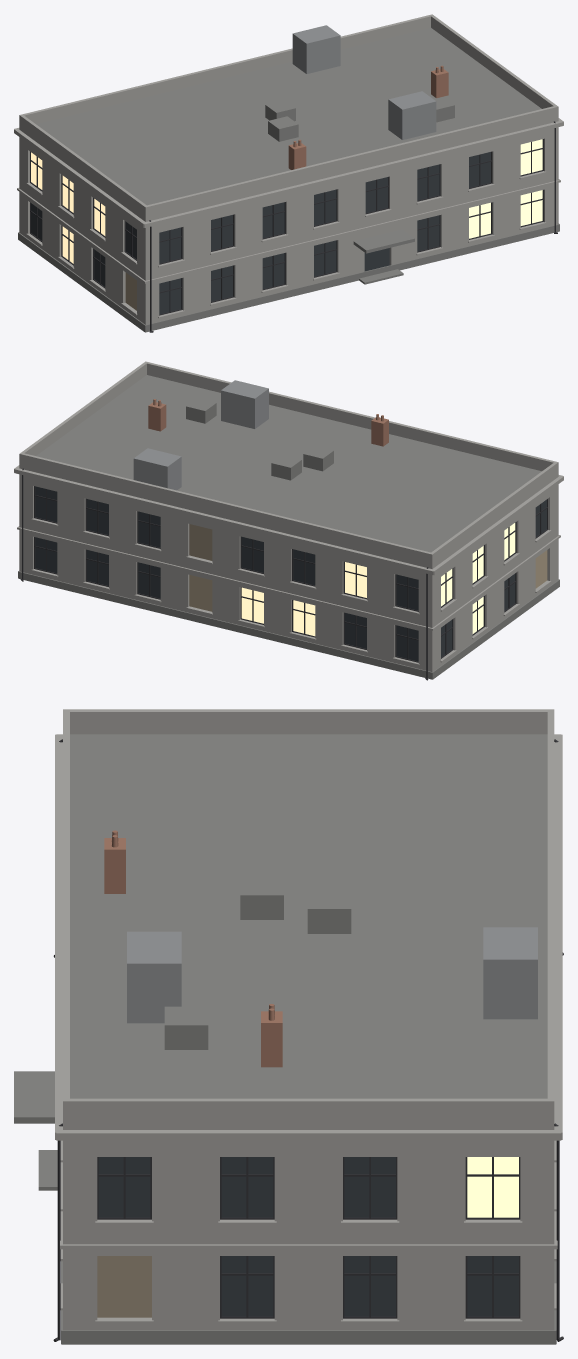
Rendered from community_centre.glb.
The picture shows the model from 3 angles, top to bottom: view 1: azimuth 30°, elevation 25°; view 2: azimuth 150°, elevation 25°; view 3: azimuth 270°, elevation 25°; orthographic projection. The views are drawn at different scales.
Visible parts, largest first — view 1: community_centre; view 2: community_centre; view 3: community_centre.
Part boxes in pixels (bbox=[...]): community_centre: bbox=[14, 14, 563, 332]; community_centre: bbox=[14, 361, 563, 680]; community_centre: bbox=[14, 709, 563, 1344].
Size of the model in its own units: 34.6 by 11.34 by 20.15.
